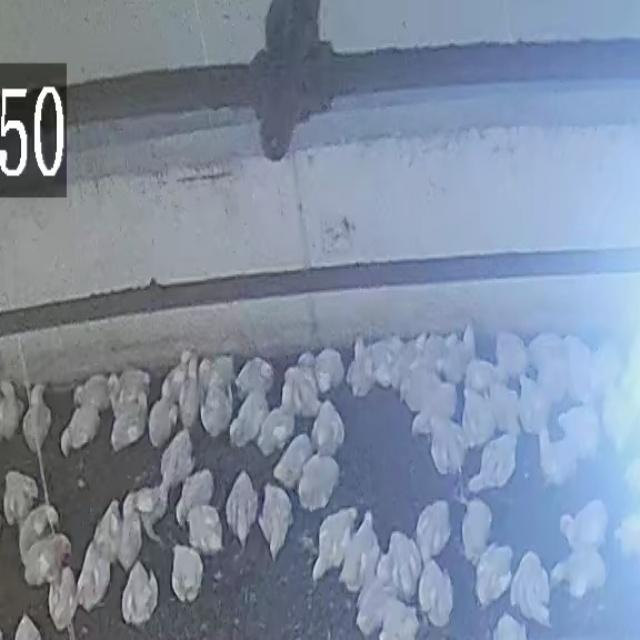chicken: (311, 506, 359, 584), (252, 480, 298, 561), (465, 433, 520, 495), (509, 549, 552, 627), (339, 512, 380, 592), (552, 543, 606, 603), (224, 466, 261, 552), (355, 570, 401, 639), (75, 538, 114, 616), (534, 423, 578, 492), (292, 454, 344, 511), (422, 415, 468, 479), (176, 467, 218, 534), (473, 542, 515, 609), (416, 557, 454, 631), (85, 502, 122, 578), (157, 430, 195, 502), (384, 530, 422, 602), (558, 499, 608, 553), (121, 559, 159, 629), (460, 386, 500, 449), (273, 433, 315, 492), (60, 399, 102, 457), (21, 383, 53, 458), (459, 499, 494, 567), (414, 501, 452, 563), (115, 494, 145, 572), (109, 392, 148, 452), (169, 542, 205, 606), (48, 560, 80, 632), (279, 364, 319, 421), (184, 504, 225, 558), (254, 405, 294, 460), (309, 399, 346, 457), (146, 388, 180, 451), (234, 356, 274, 402), (313, 347, 346, 395)
